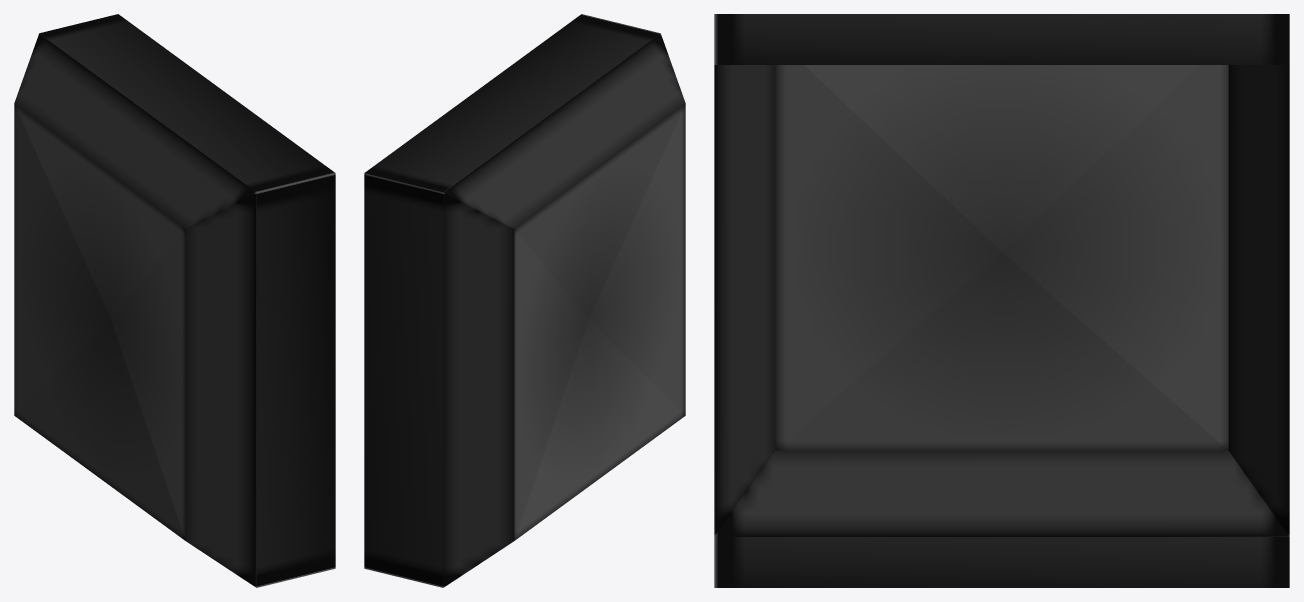
File: numberpad_button.fbx
3 renders of one model, left to right at view 1: azimuth 30°, elevation 25°; view 2: azimuth 150°, elevation 25°; view 3: azimuth 270°, elevation 25°, orthographic. The views are drawn at different scales.
Parts seen in each view (by area): view 1: Numberpad_Button; view 2: Numberpad_Button; view 3: Numberpad_Button.
Part boxes in pixels (box(x1,y1,x2,y2)): Numberpad_Button: box(14, 14, 335, 587); Numberpad_Button: box(364, 14, 685, 587); Numberpad_Button: box(714, 14, 1289, 587).
Size of the model in its own units: 1.64 by 4.87 by 4.86.
